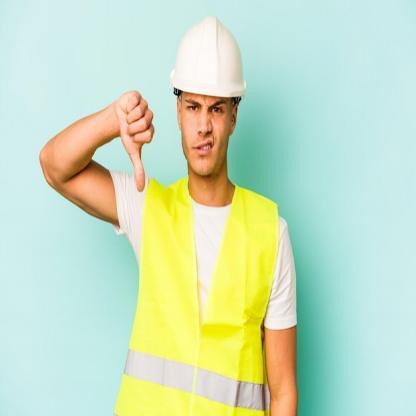thumb_down: (113, 81, 160, 196)
